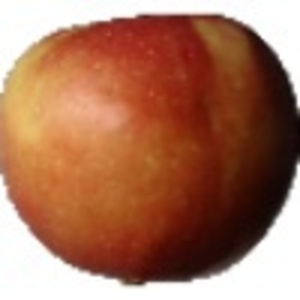maçã braeburn: (1, 9, 299, 284)
